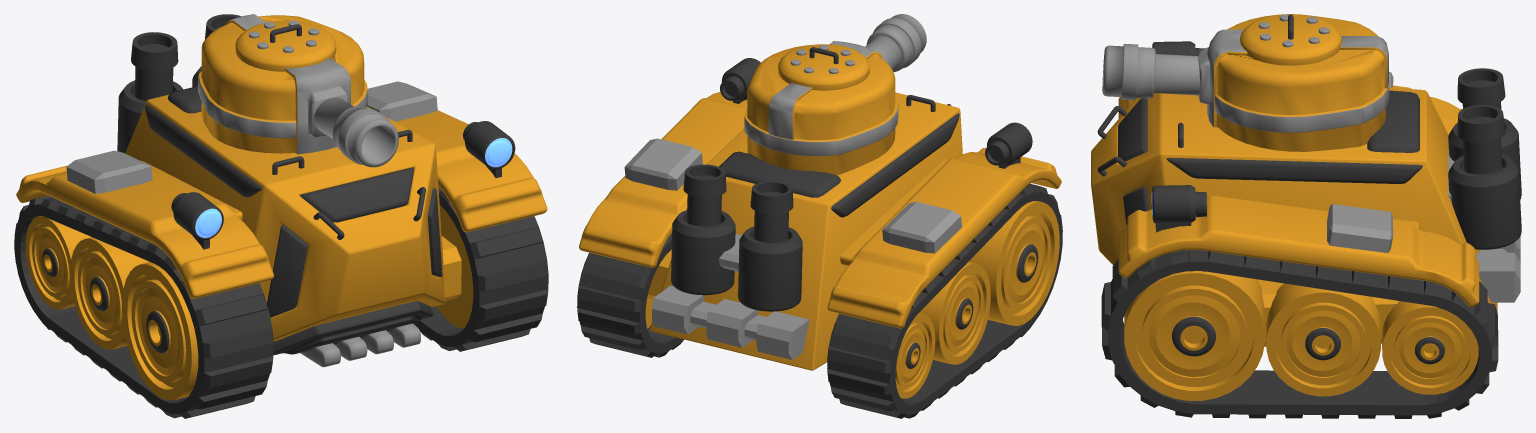
Rendered from tank.fbx.
3 views of the same model, side by side, from view 1: azimuth 30°, elevation 25°; view 2: azimuth 150°, elevation 25°; view 3: azimuth 270°, elevation 25° (orthographic). The views are drawn at different scales.
Parts seen in each view (by area): view 1: govde, palet, Cylinder.001, Circle.001, paletdaire, Cube.005, Cylinder.003, lamba, Cube.006, Cube.001; view 2: Circle.001, govde, palet, Cylinder.001, paletdaire, Cylinder.003, Cube.015, Cube.005, lamba, Cube.001; view 3: paletdaire, govde, Cylinder.001, palet, Circle.001, Cylinder.003, Cube.005, lamba, Cube.015, Cube.001.
Part boxes in pixels (x1,y1,x2,y2): govde: (125, 86, 445, 355); palet: (14, 187, 548, 418); Cylinder.001: (198, 14, 398, 167); Circle.001: (16, 110, 547, 298); paletdaire: (25, 205, 473, 400); Cube.005: (66, 81, 437, 193); Cylinder.003: (117, 14, 240, 153); lamba: (171, 121, 515, 249); Cube.006: (300, 323, 420, 367); Cube.001: (441, 236, 461, 300); Circle.001: (579, 92, 1061, 328); govde: (649, 92, 962, 370); palet: (577, 184, 1062, 418); Cylinder.001: (744, 14, 926, 175); paletdaire: (645, 201, 1059, 398); Cylinder.003: (671, 164, 802, 311); Cube.015: (652, 285, 809, 359); Cube.005: (624, 138, 961, 253); lamba: (720, 58, 1032, 168); Cube.001: (647, 249, 671, 299); paletdaire: (1124, 271, 1478, 400); govde: (1091, 87, 1497, 312); Cylinder.001: (1102, 14, 1389, 151); palet: (1101, 250, 1498, 418); Circle.001: (1118, 85, 1479, 306); Cylinder.003: (1448, 68, 1521, 249); Cube.005: (1327, 72, 1393, 252); lamba: (1151, 41, 1206, 232); Cube.015: (1476, 236, 1520, 302); Cube.001: (1258, 279, 1398, 346).
Size of the model in its own units: 406 by 338 by 419.
